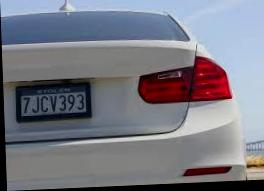License_Plate: (15, 84, 92, 116)
